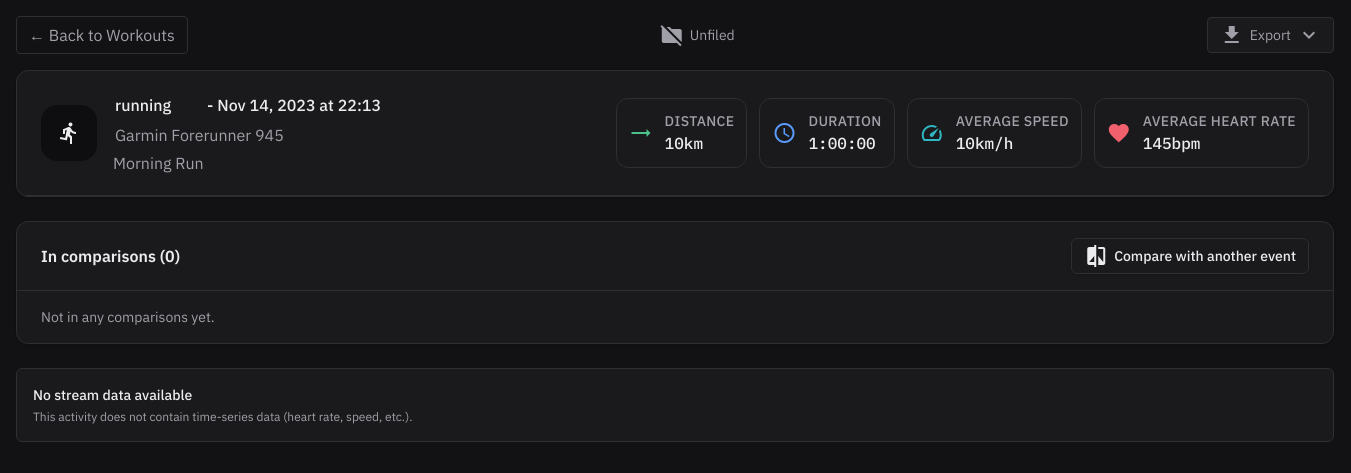
Test case: EventDetail › shows saveError when commit device fails
Expected: the text "Garmin Forerunner 945" is shown, [115, 123, 284, 147]
Click the button "Garmin Forerunner 945" at (213, 135), box [113, 121, 314, 149]
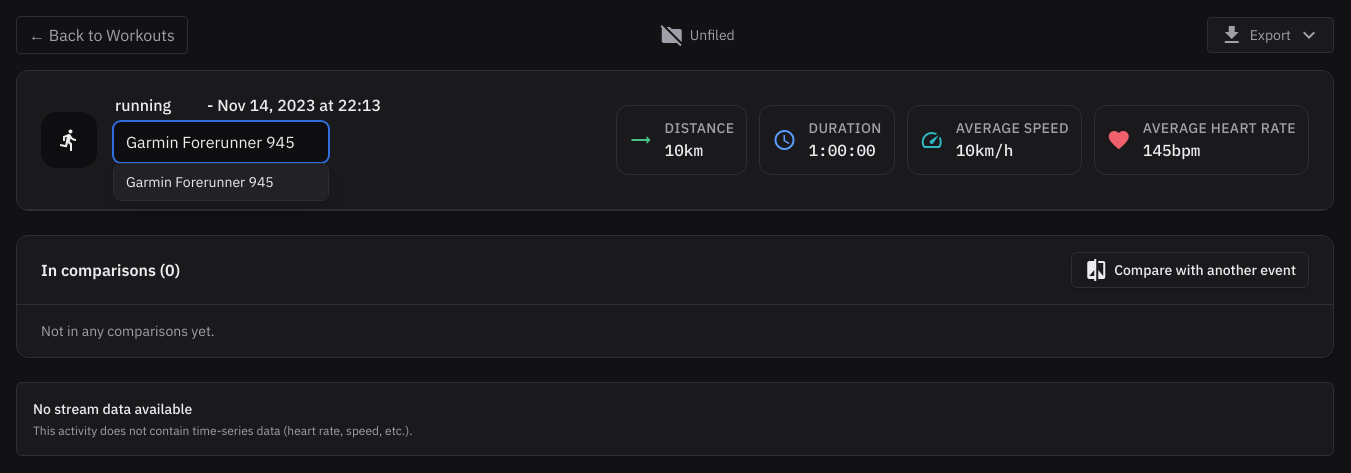
Now the dropdown with placeholder "Device…" is shown
Replace the text in the dropdown with placeholder "Device…" with "Wahoo" at (221, 142), box [113, 121, 329, 163]
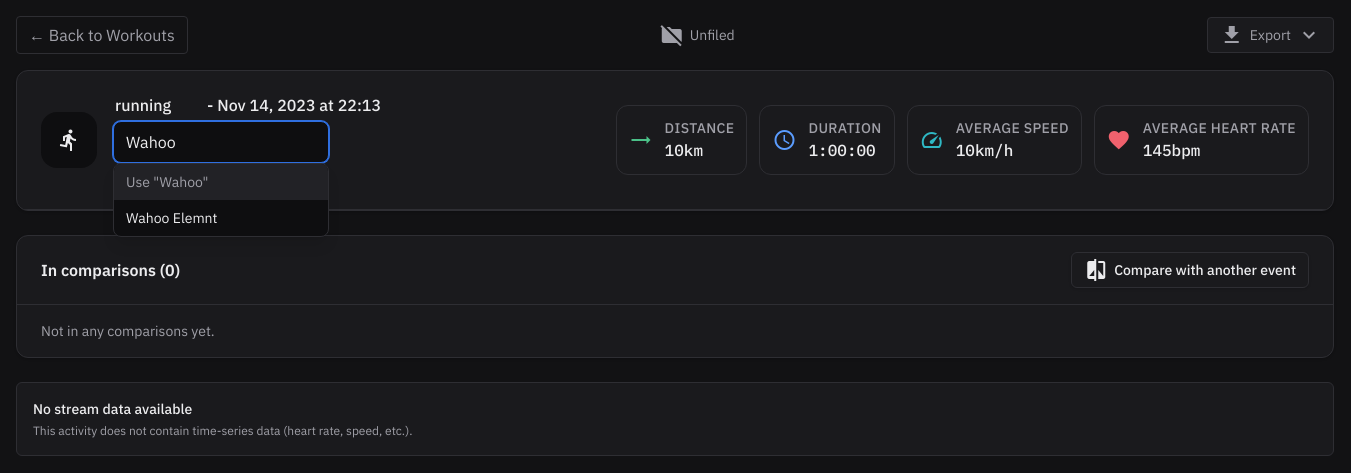
Now the option "Wahoo Elemnt" is shown
Click the option "Wahoo Elemnt" at (221, 218), box [114, 200, 328, 236]
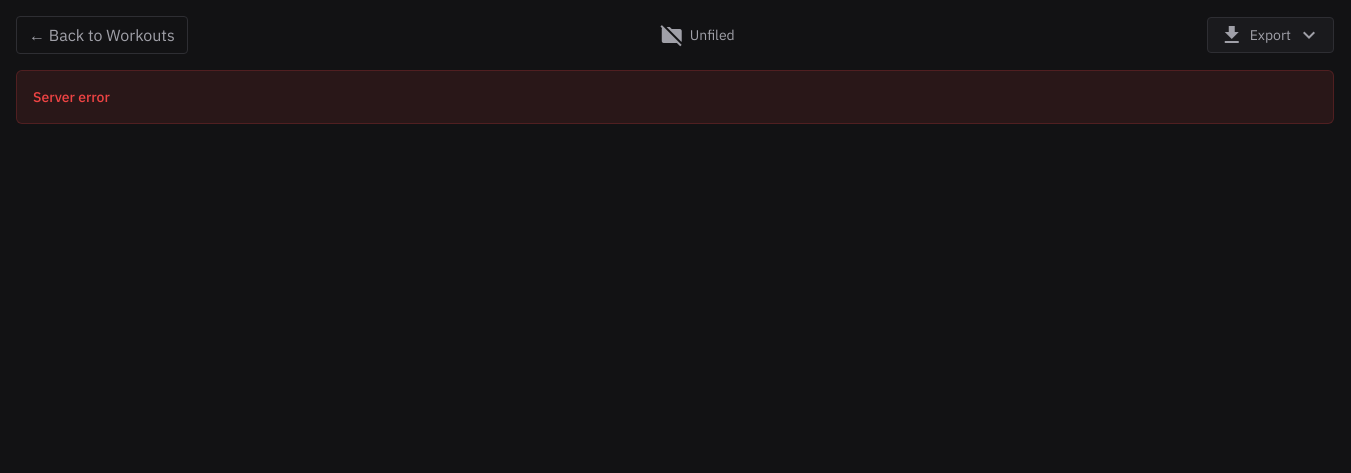
Now the text "Server error" is shown, box [33, 88, 110, 106]
